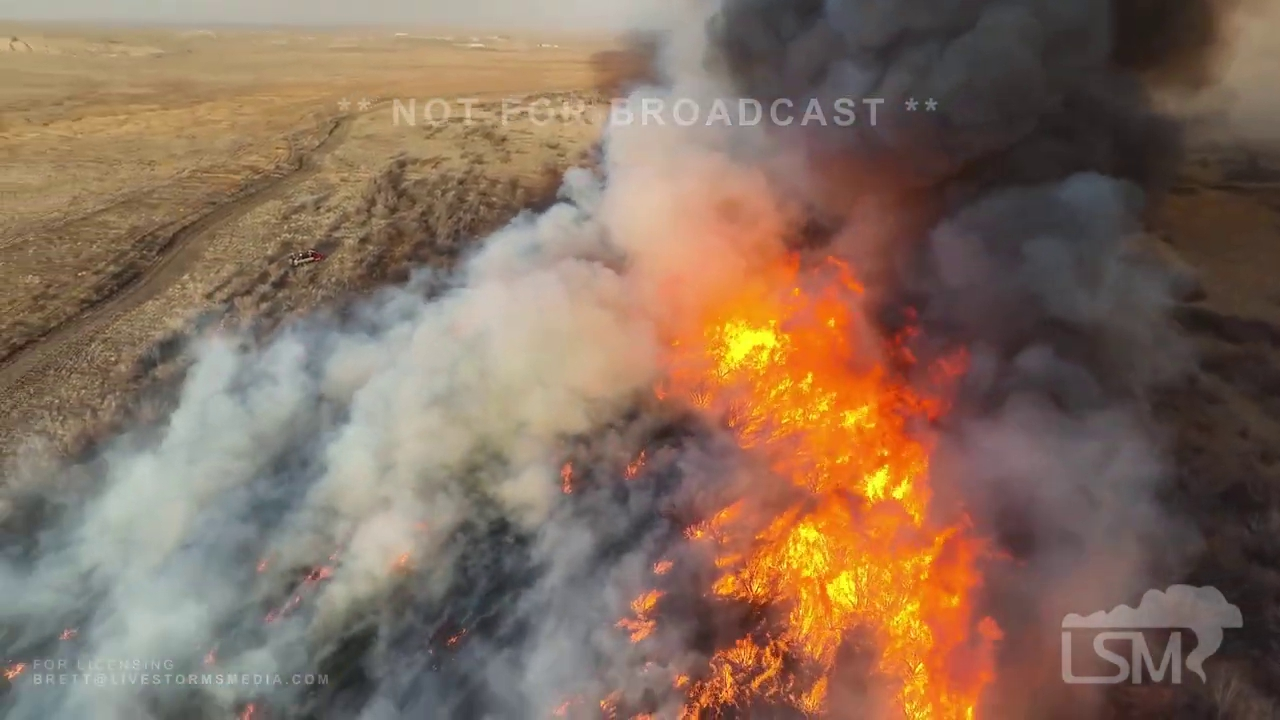forest_fire: (657, 260, 999, 719), (618, 588, 665, 641)
